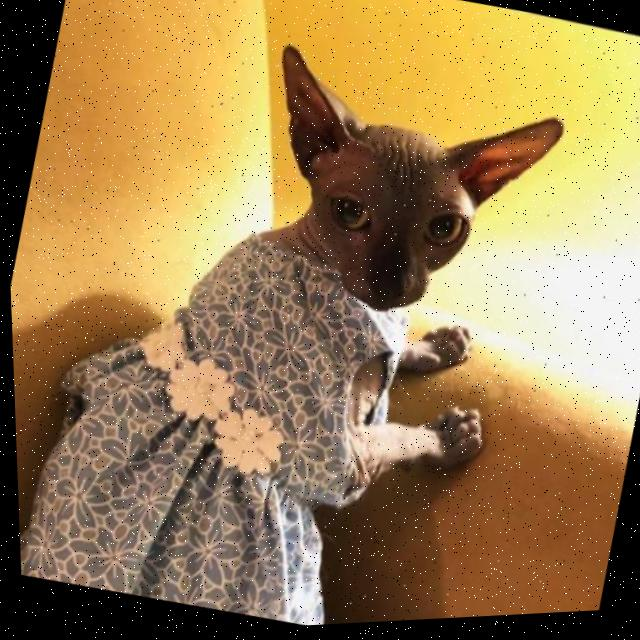Cats: (160, 6, 596, 499)
